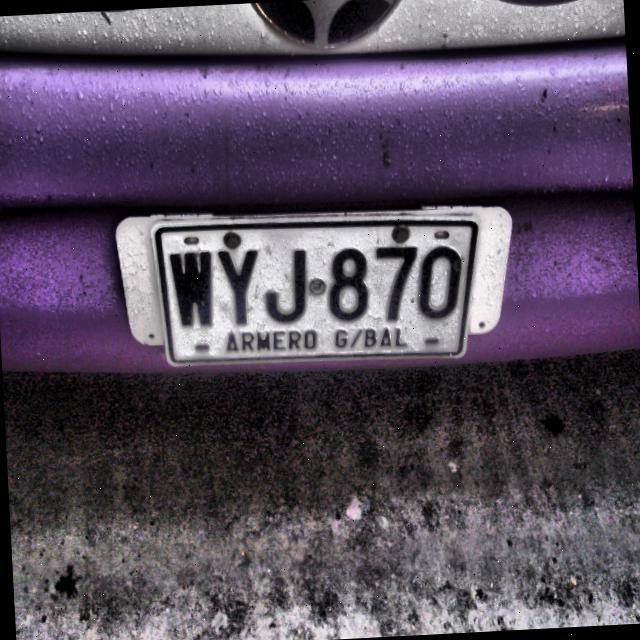plate: (151, 216, 480, 368)
